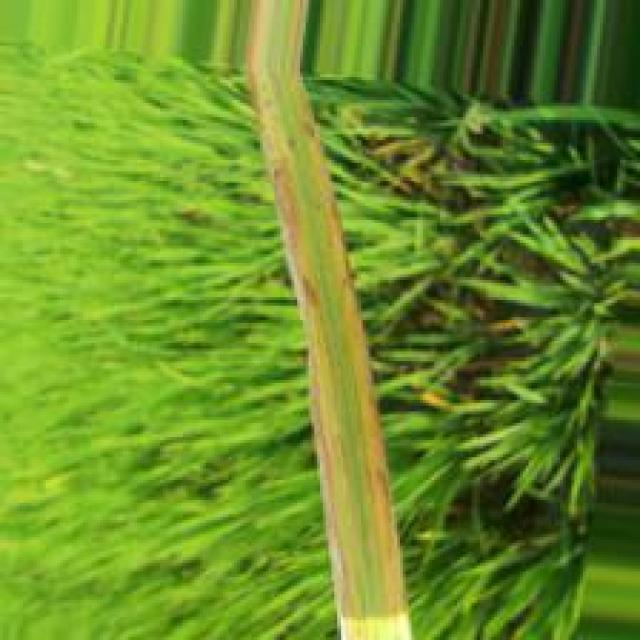Narrow_Brown_Leaf_Spot: (241, 0, 416, 640)
